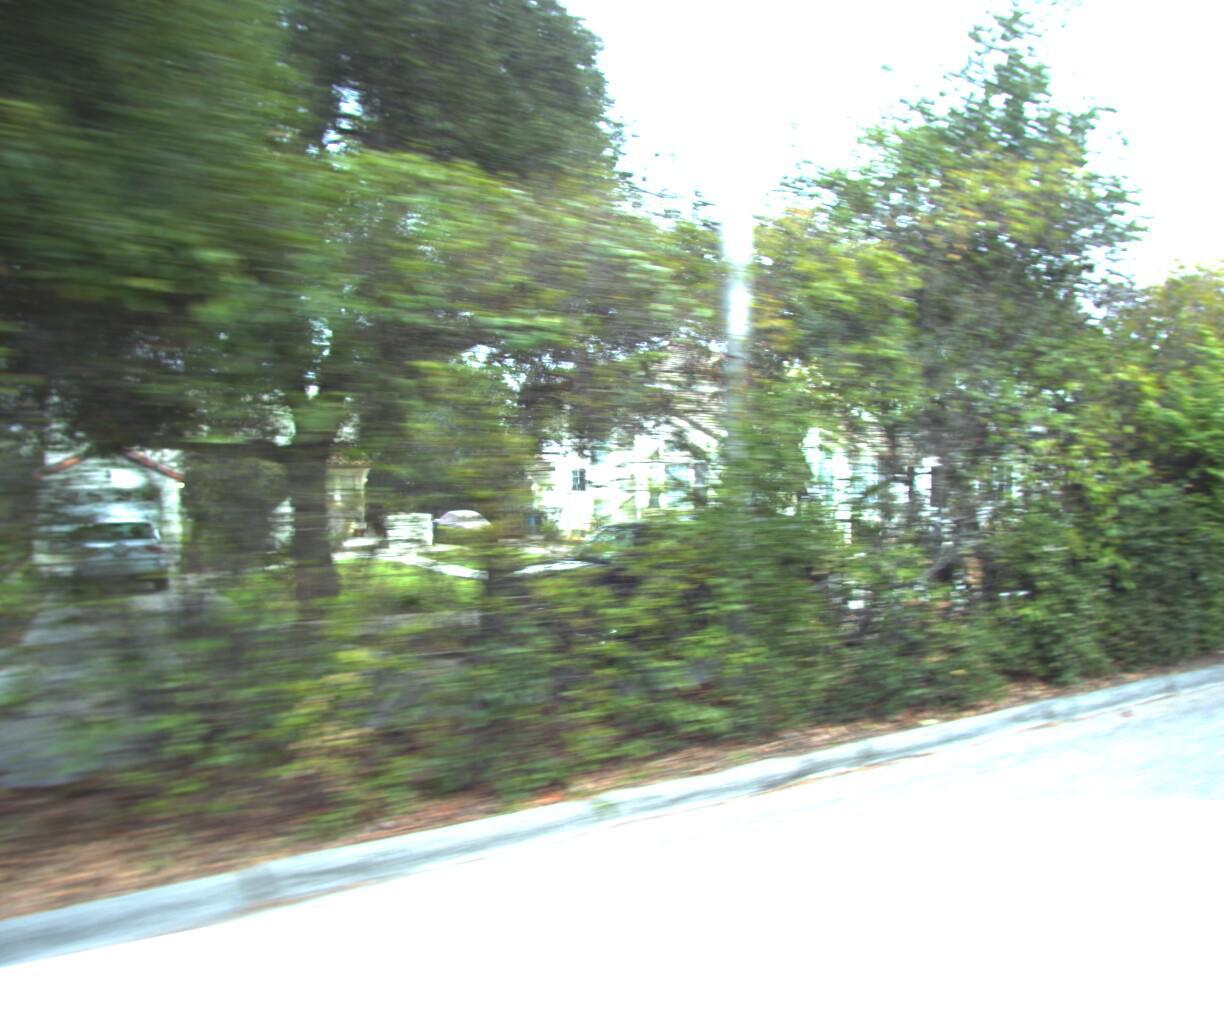car: (55, 508, 177, 603)
